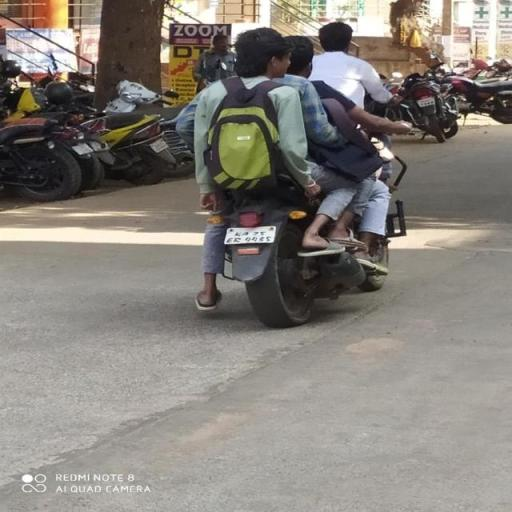tripple riding: (191, 23, 355, 210)
